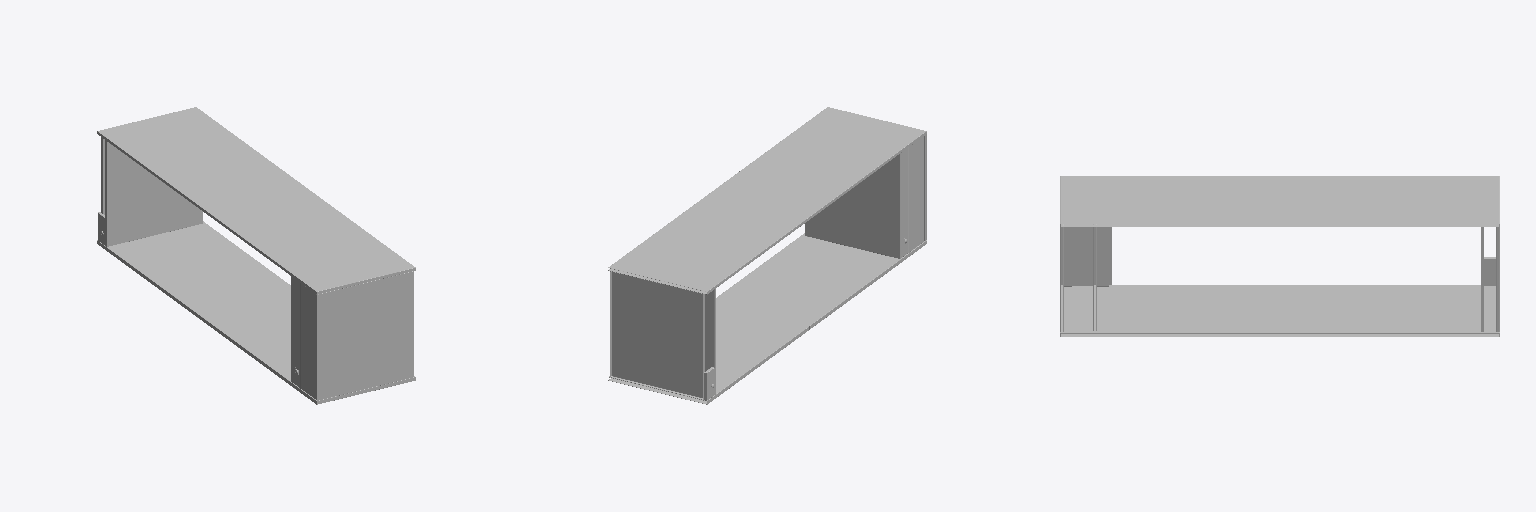
Rendered from SM_Kitchen_03_Fridge.obj.
The picture shows the model from 3 angles: view 1: azimuth 30°, elevation 25°; view 2: azimuth 150°, elevation 25°; view 3: azimuth 270°, elevation 25°; orthographic projection.
Visible parts, largest first — view 1: SM_Kitchen_03_Fridge; view 2: SM_Kitchen_03_Fridge; view 3: SM_Kitchen_03_Fridge.
Part boxes in pixels (x1,y1,x2,y2): SM_Kitchen_03_Fridge: (97, 107, 415, 404); SM_Kitchen_03_Fridge: (608, 107, 926, 404); SM_Kitchen_03_Fridge: (1060, 176, 1499, 336).
Size of the model in its own units: 0.5609 by 0.6039 by 2.13.